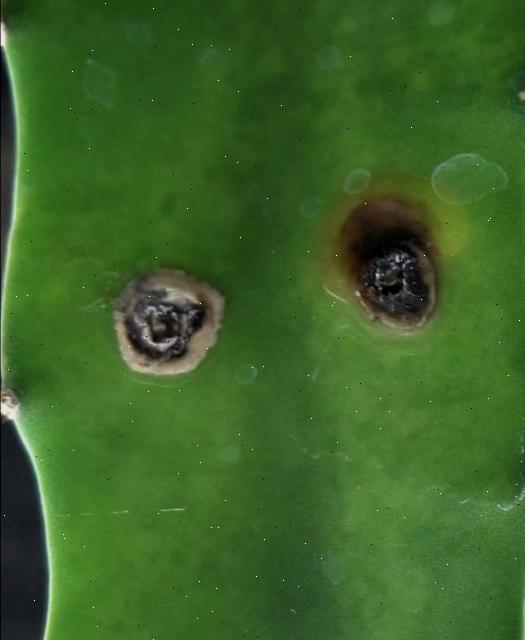stemcanker: (322, 179, 463, 342), (90, 260, 237, 384)
